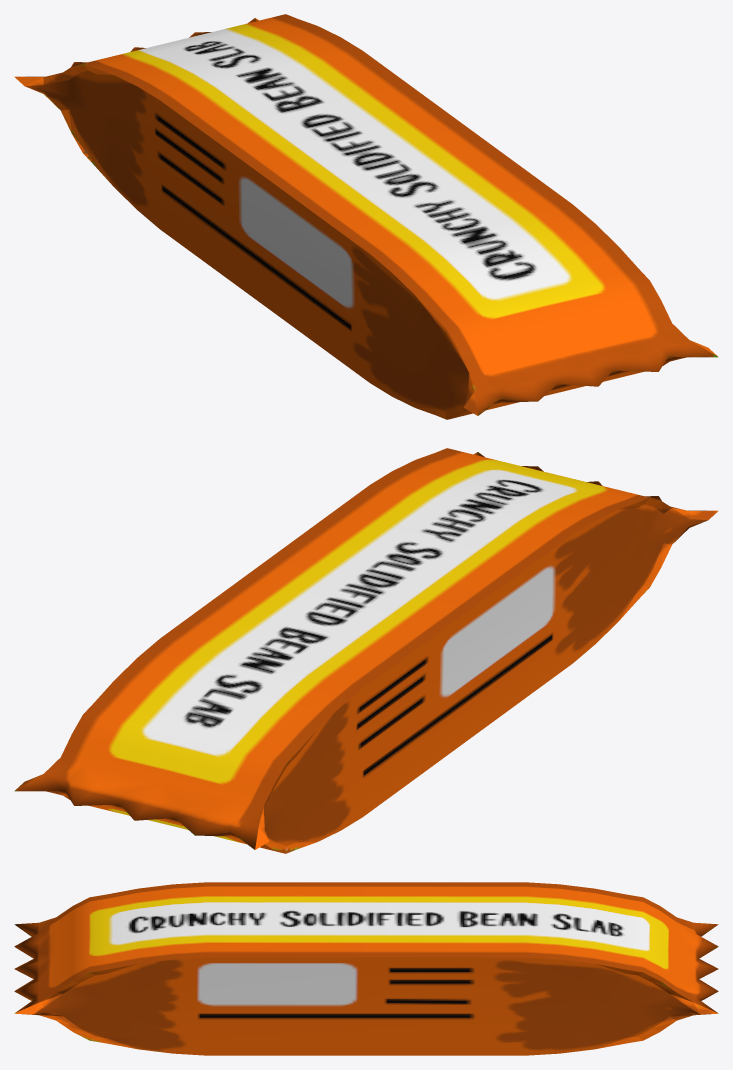
The model's file is ChocoBar.FBX.
3 renders of one model, top to bottom at view 1: azimuth 30°, elevation 25°; view 2: azimuth 150°, elevation 25°; view 3: azimuth 270°, elevation 25°, orthographic. The views are drawn at different scales.
Visible parts, largest first — view 1: CandyBar; view 2: CandyBar; view 3: CandyBar.
Part boxes in pixels (box(x1,y1,x2,y2)): CandyBar: box(14, 14, 718, 419); CandyBar: box(14, 448, 718, 853); CandyBar: box(14, 882, 718, 1055).
Bounding box in the file's own units: 1529 × 770 × 5015.
Materials: 1 (1 with a texture image).
